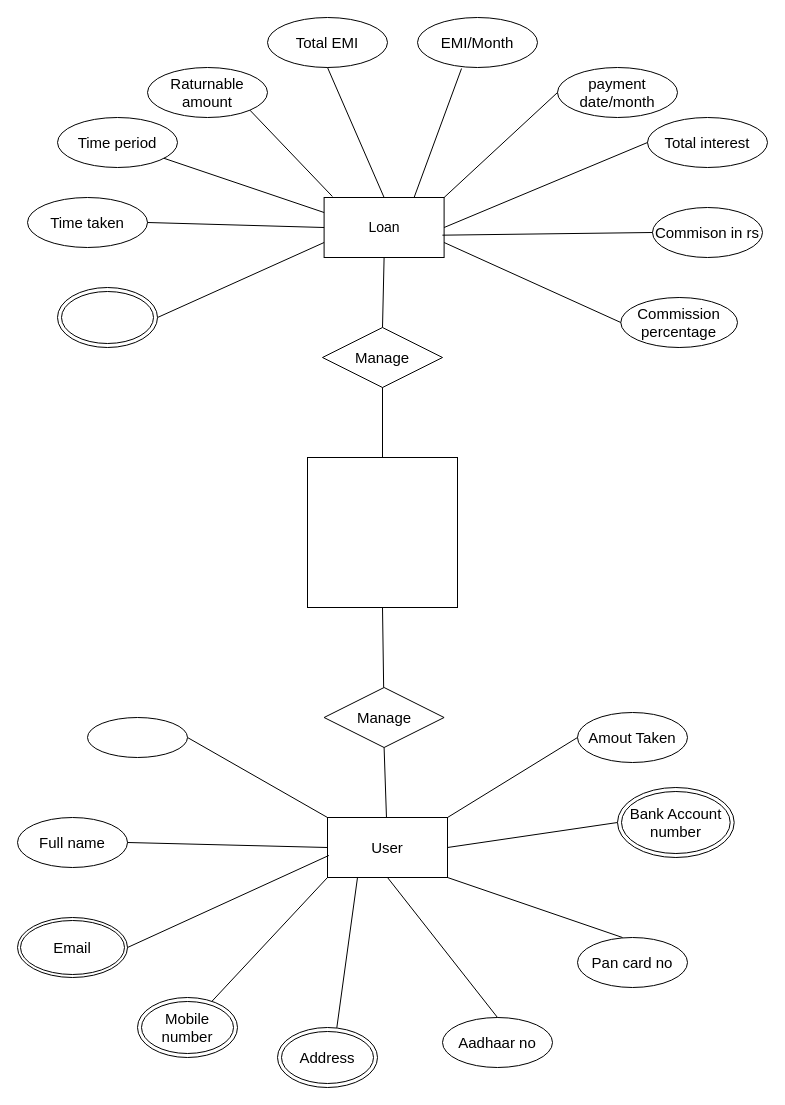
Some shapes in this 785 by 1105 pixel diagram are drawn without their labels. Here are the shapes that lost their labels. From the top down, the centre of each, then its label:
(107,317): Commission To
(382,532): Admin
(137,737): Loan Id
